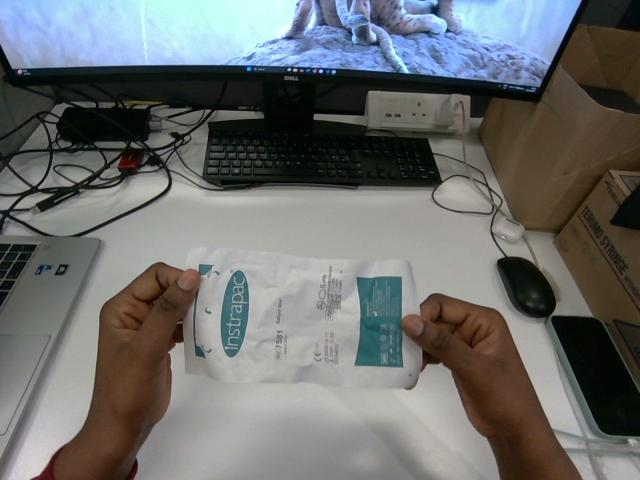gallipot: (184, 248, 421, 387)
